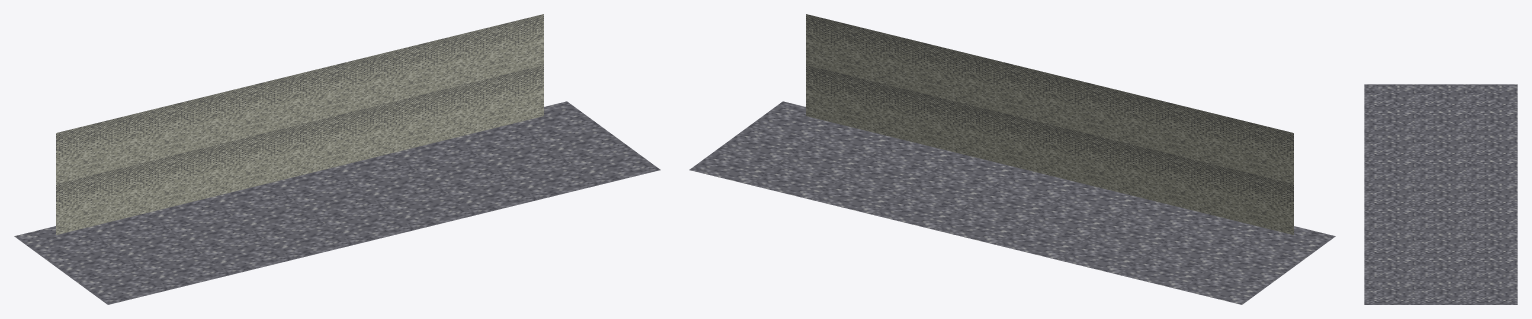
The model's file is street.glb.
3 renders of one model, left to right at view 1: azimuth 30°, elevation 25°; view 2: azimuth 150°, elevation 25°; view 3: azimuth 270°, elevation 25°, orthographic. The views are drawn at different scales.
Parts seen in each view (by area): view 1: Street_Facade_North, Street_Ground; view 2: Street_Facade_South, Street_Ground; view 3: Street_Ground.
Part boxes in pixels (x1,y1,x2,y2): Street_Facade_North: (56, 14, 543, 234); Street_Ground: (14, 101, 660, 304); Street_Facade_South: (806, 14, 1293, 234); Street_Ground: (689, 101, 1335, 304); Street_Ground: (1364, 84, 1517, 304).
Size of the model in its own units: 34 by 6 by 10.
2 materials, 2 textured.
